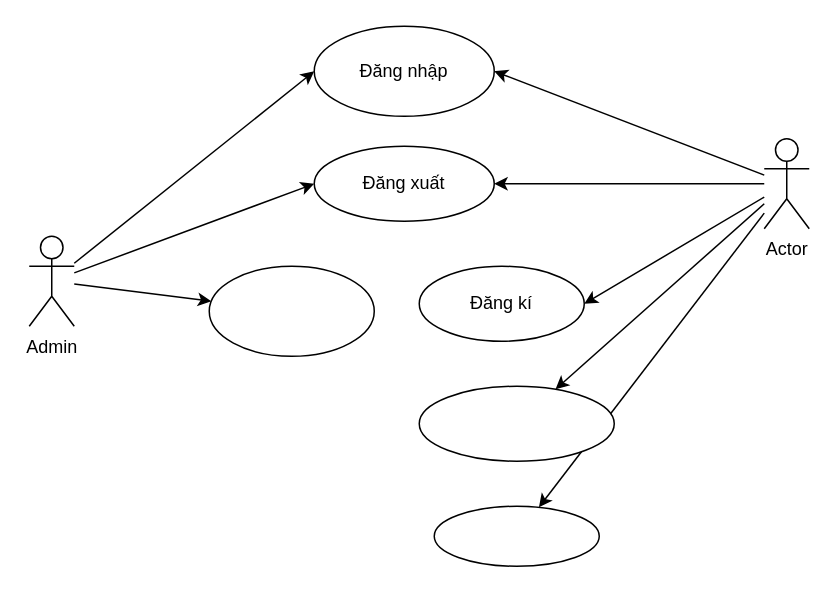
Image size: 836x593. Some labels were removed from this diagram. The shapes that lost their labels are listed below. From the top down, each one's centre as x and y in pixels, then its label:
At point 291,310: "Quản lý món ăn".
At point 516,423: "Đặt món".
At point 516,535: "Xem danh sách món ăn".
